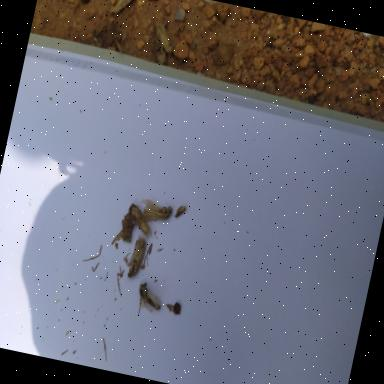pbw: (132, 279, 166, 319), (136, 197, 174, 227), (122, 232, 146, 279), (123, 202, 156, 236), (116, 209, 136, 243), (174, 203, 188, 219), (164, 302, 178, 314)
